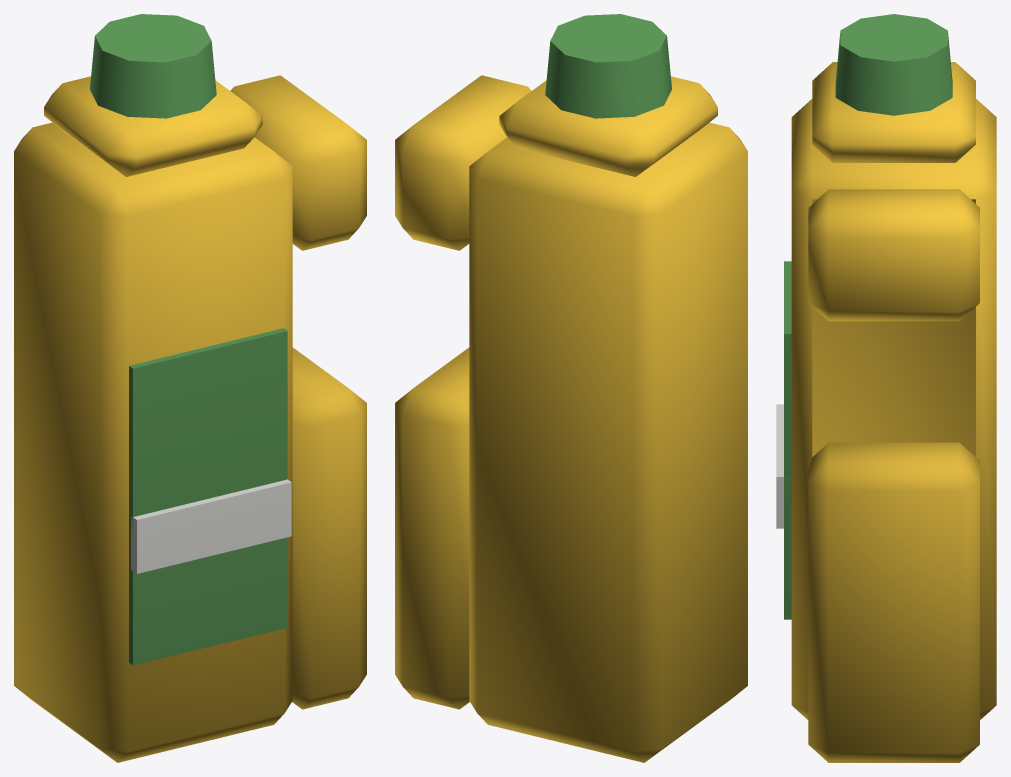
The model's file is Jug_CookingOil_01.glb.
3 views of the same model, side by side, from view 1: azimuth 30°, elevation 25°; view 2: azimuth 150°, elevation 25°; view 3: azimuth 270°, elevation 25° (orthographic). The views are drawn at different scales.
Visible parts, largest first — view 1: SM_Jug_CookingOil_01; view 2: SM_Jug_CookingOil_01; view 3: SM_Jug_CookingOil_01.
Part boxes in pixels (left/top/right/bottom): SM_Jug_CookingOil_01: left=14, top=14, right=366, bottom=762; SM_Jug_CookingOil_01: left=395, top=14, right=747, bottom=762; SM_Jug_CookingOil_01: left=776, top=14, right=996, bottom=762.
Size of the model in its own units: 0.12 by 0.28 by 0.086.
Materials: 1 (1 with a texture image).
